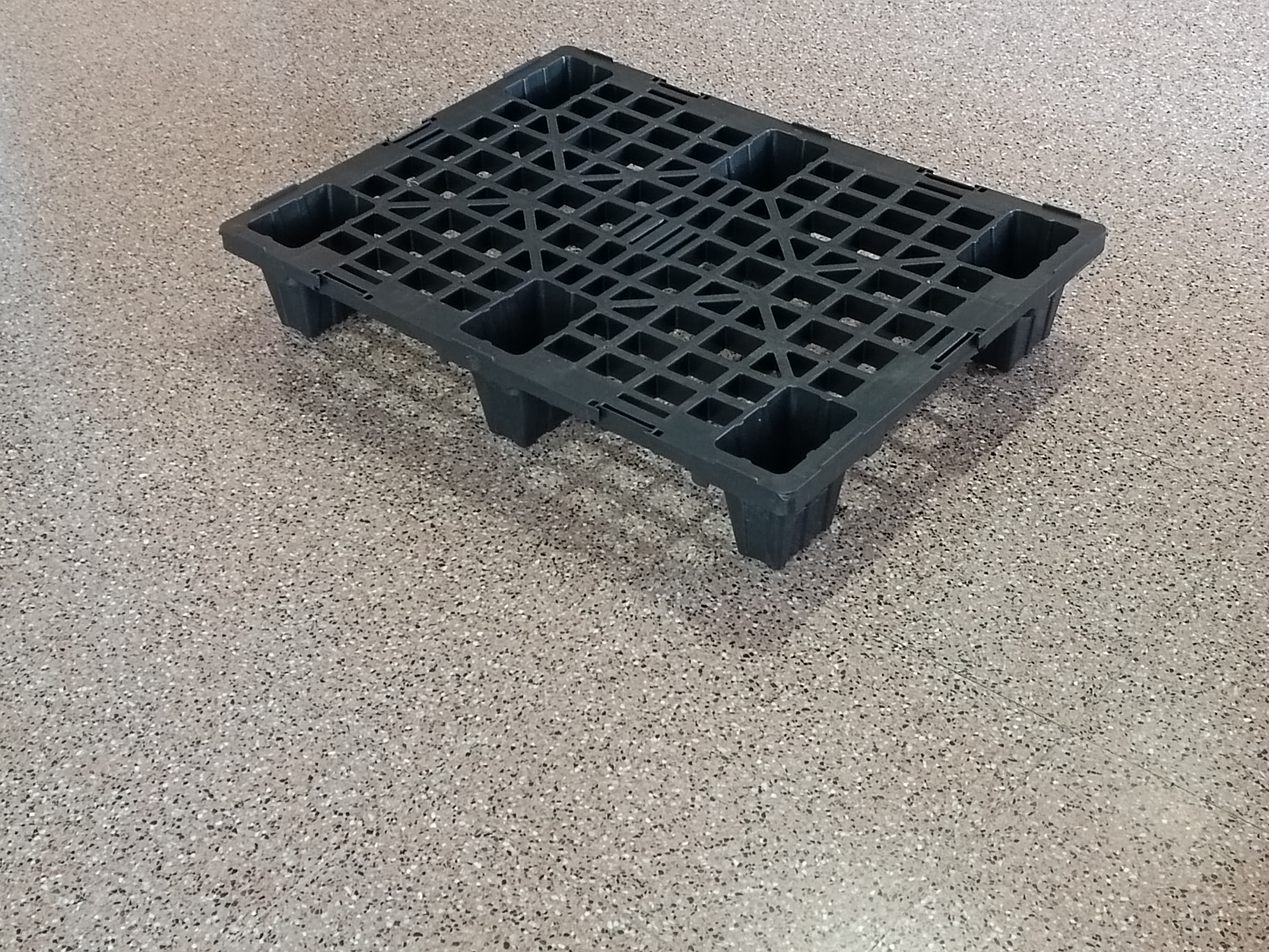block: (731, 459, 843, 566), (1006, 256, 1081, 373), (470, 365, 534, 453), (254, 269, 315, 343)
front: (217, 226, 799, 579)
hole pallet: (520, 396, 744, 563), (312, 288, 486, 434)
